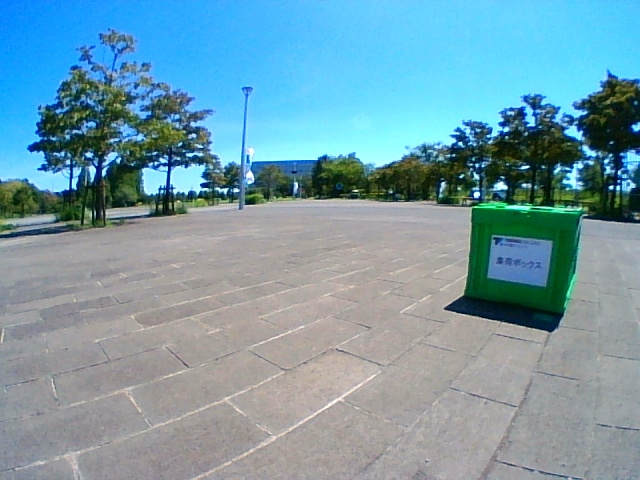green_box: (465, 202, 583, 313)
